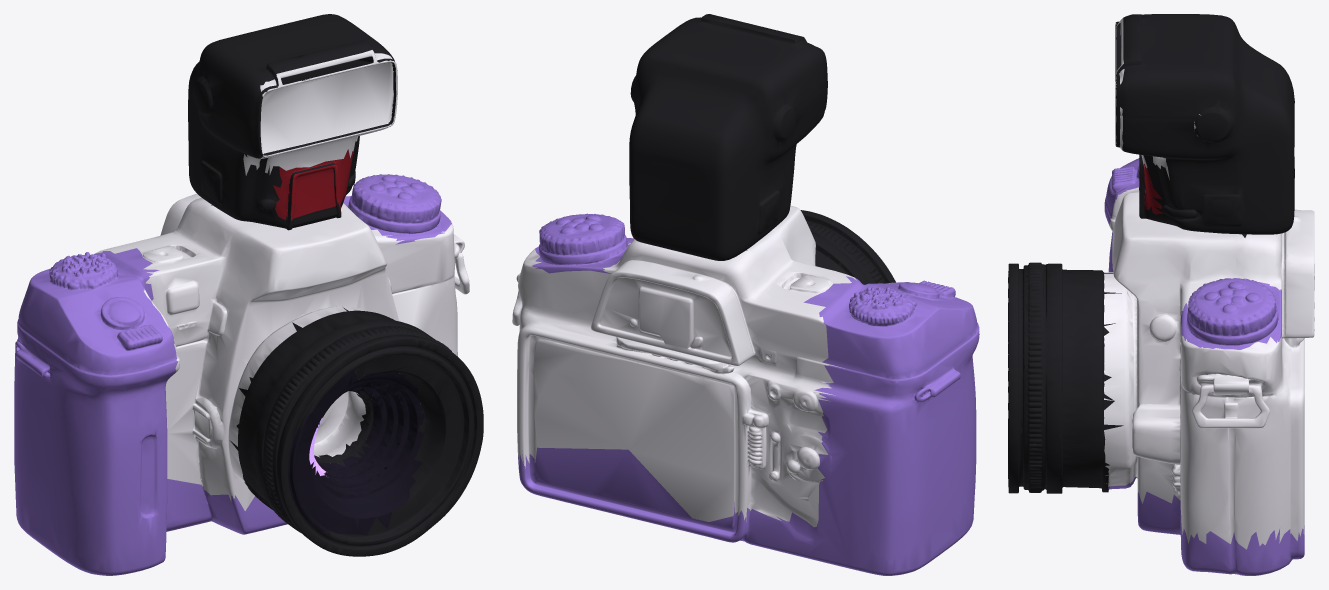
Rendered from minolta_dynax5.glb.
3 views of the same model, side by side, from view 1: azimuth 30°, elevation 25°; view 2: azimuth 150°, elevation 25°; view 3: azimuth 270°, elevation 25° (orthographic). The views are drawn at different scales.
Parts seen in each view (by area): view 1: MeshyCamera; view 2: MeshyCamera; view 3: MeshyCamera.
Boxes of the visible parts, x1=… form: MeshyCamera: x1=14, y1=14, x2=483, y2=575; MeshyCamera: x1=512, y1=14, x2=979, y2=575; MeshyCamera: x1=1008, y1=14, x2=1314, y2=575.
Size of the model in its own units: 0.1351 by 0.139 by 0.0839.
